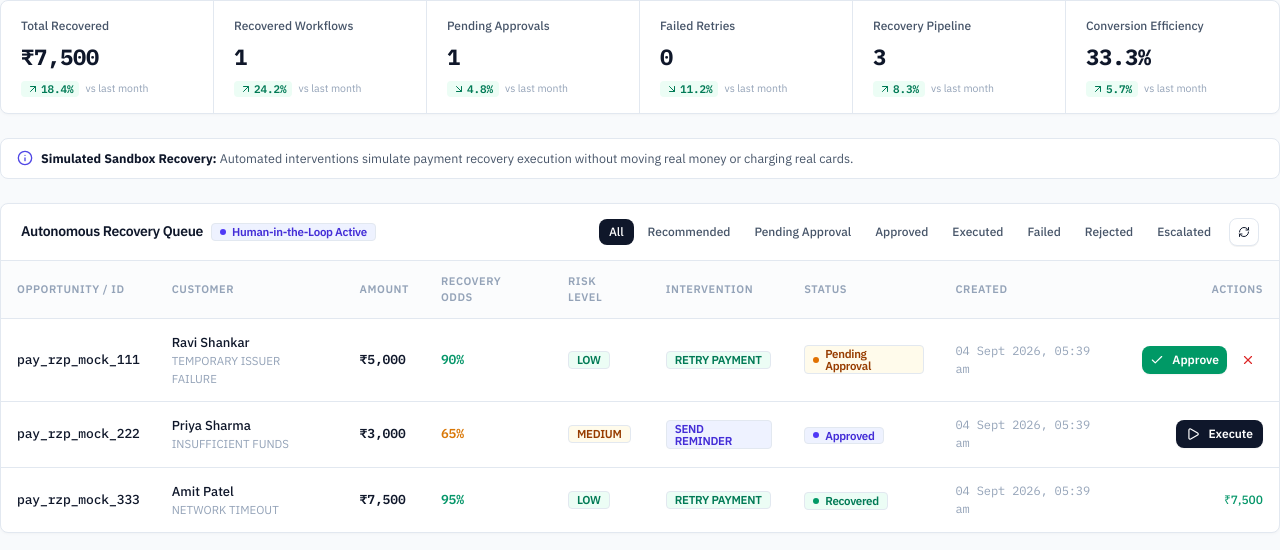
Test: Recovery Dashboard UI Component (Milestone 6 Step 10B Hardened) › disables buttons while processing an action to prevent duplicate clicks
The image size is (1280, 550).
Step 1. Click the button "Approve" → [1185, 360], box [1142, 346, 1227, 374]
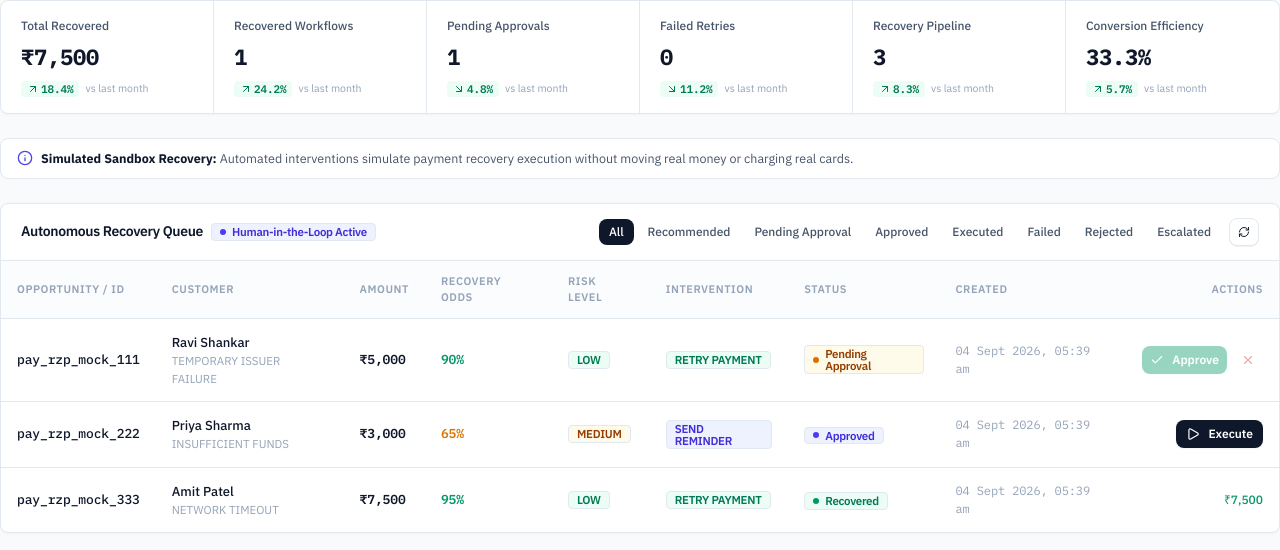
expect the button "Approve" is disabled: met, box [1142, 346, 1227, 374]
